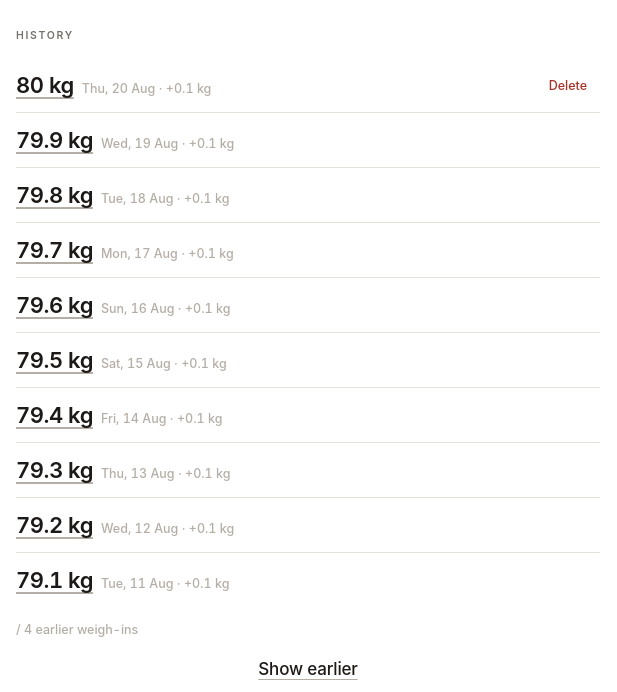
the bounded history › says so when a page does not come back, and offers the tap again
(page scrolled)
Step 1. Click the button "Show earlier" → [308, 669], box top-left (16, 646), bottom-right (600, 691)
(page scrolled)
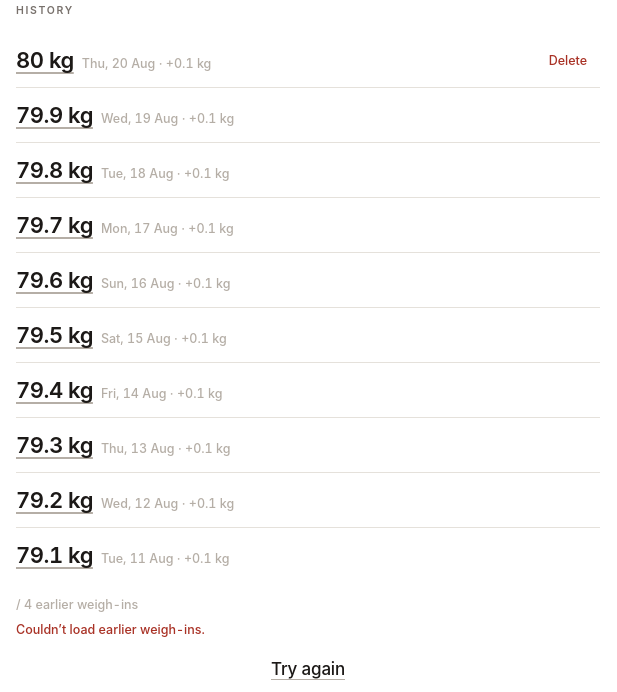
Expected: the message reads "Couldn’t load earlier weigh-ins.", top-left (16, 622), bottom-right (205, 637)
Expected: the button "Try again" is shown, top-left (16, 646), bottom-right (600, 691)
